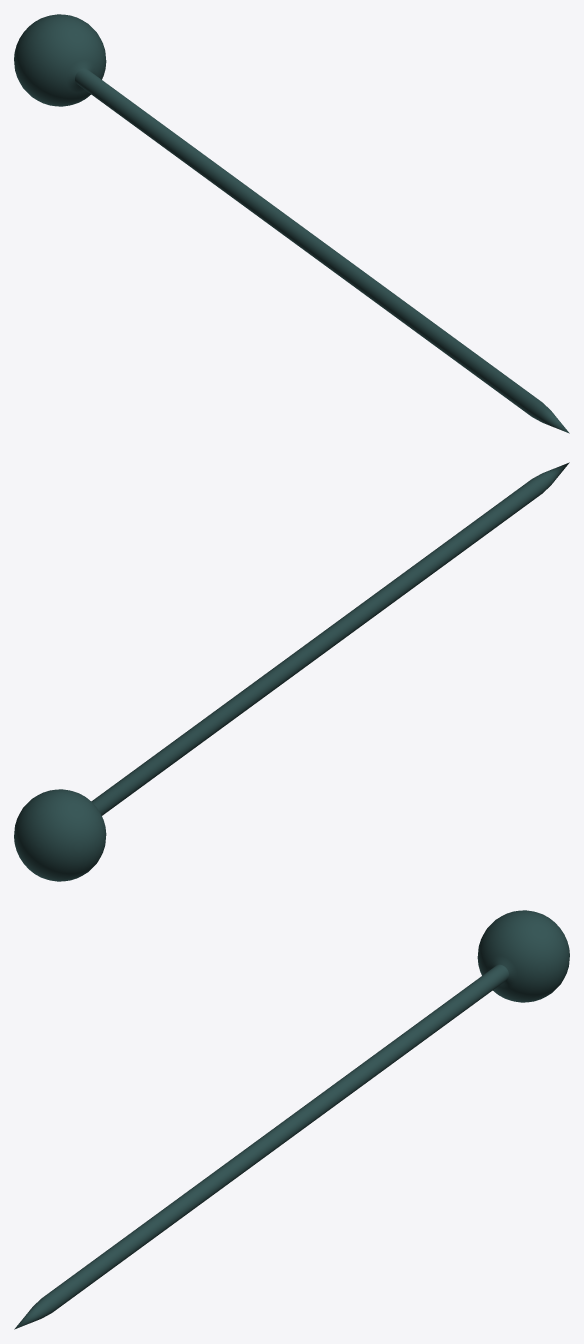
The model's file is DARKSLATE.glb.
The picture shows the model from 3 angles, top to bottom: view 1: azimuth 30°, elevation 25°; view 2: azimuth 150°, elevation 25°; view 3: azimuth 330°, elevation 25°; orthographic projection.
Visible parts, largest first — view 1: Sphere; view 2: Sphere; view 3: Sphere.
Boxes of the visible parts, left/top/right/bottom form: Sphere: left=14, top=14, right=569, bottom=433; Sphere: left=14, top=462, right=569, bottom=881; Sphere: left=14, top=910, right=569, bottom=1329.
Bounding box in the file's own units: 0.02 × 0.02 × 0.2305.
